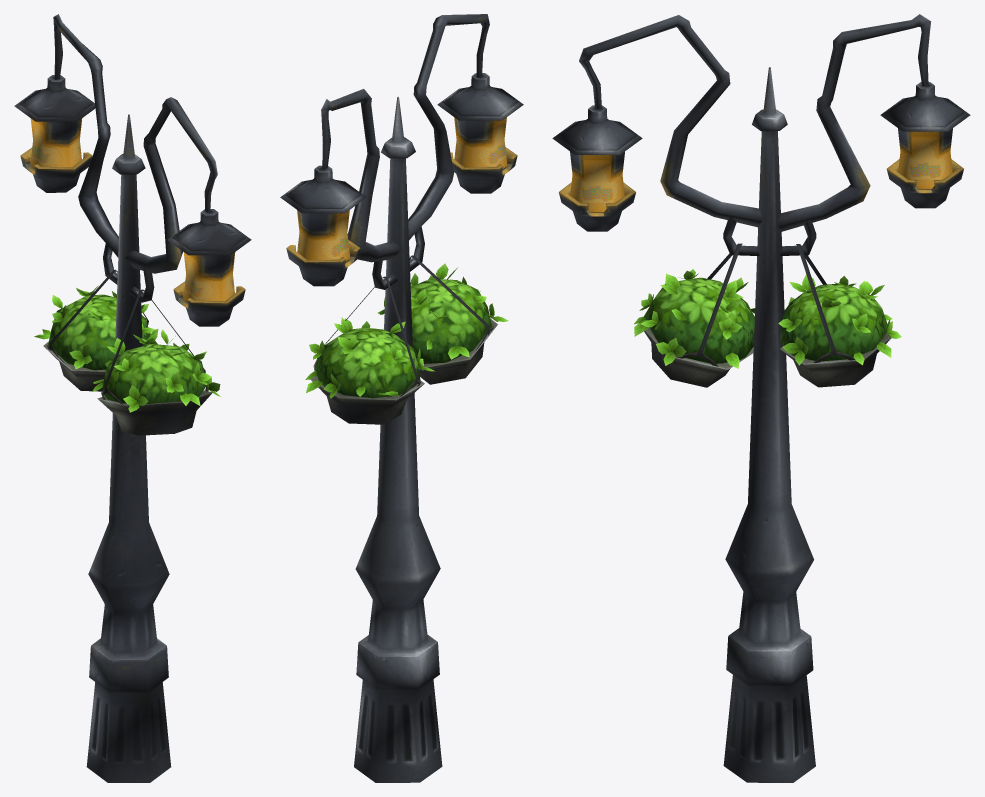
The model's file is hbxz_wj006_01.FBX.
3 views of the same model, side by side, from view 1: azimuth 30°, elevation 25°; view 2: azimuth 150°, elevation 25°; view 3: azimuth 270°, elevation 25° (orthographic). The views are drawn at different scales.
Parts seen in each view (by area): view 1: hbxz_wj006_01; view 2: hbxz_wj006_01; view 3: hbxz_wj006_01.
Part boxes in pixels (left/top/right/bottom): hbxz_wj006_01: left=14, top=14, right=251, bottom=782; hbxz_wj006_01: left=280, top=14, right=523, bottom=782; hbxz_wj006_01: left=552, top=14, right=970, bottom=782.
Size of the model in its own units: 52.81 by 339 by 171.
1 material, 1 textured.
